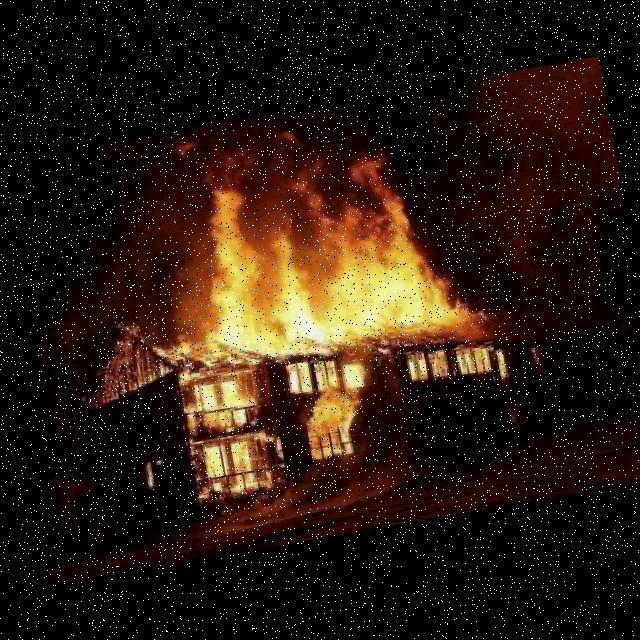Fire: (146, 134, 467, 374), (181, 352, 378, 496), (407, 333, 509, 391)
